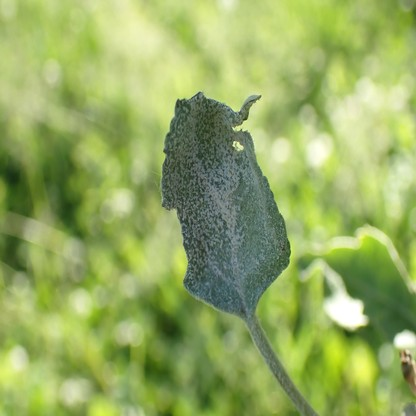powdery_mildew: (160, 93, 289, 313)
